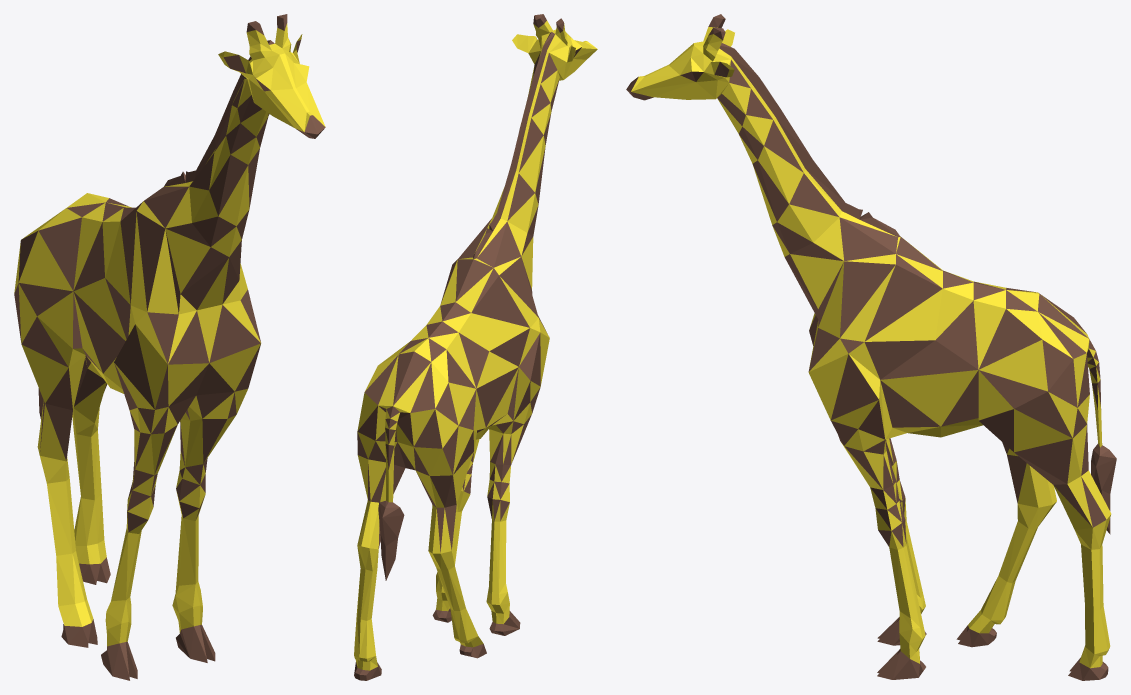
The model's file is giraffe.gltf.
3 renders of one model, left to right at view 1: azimuth 30°, elevation 25°; view 2: azimuth 150°, elevation 25°; view 3: azimuth 270°, elevation 25°, orthographic. The views are drawn at different scales.
Visible parts, largest first — view 1: Giraffe; view 2: Giraffe; view 3: Giraffe.
Part boxes in pixels (x1,y1,x2,y2): Giraffe: (14,14,325,680); Giraffe: (354,14,597,680); Giraffe: (626,14,1116,680).
Size of the model in its own units: 2.25 by 12.25 by 8.53.
